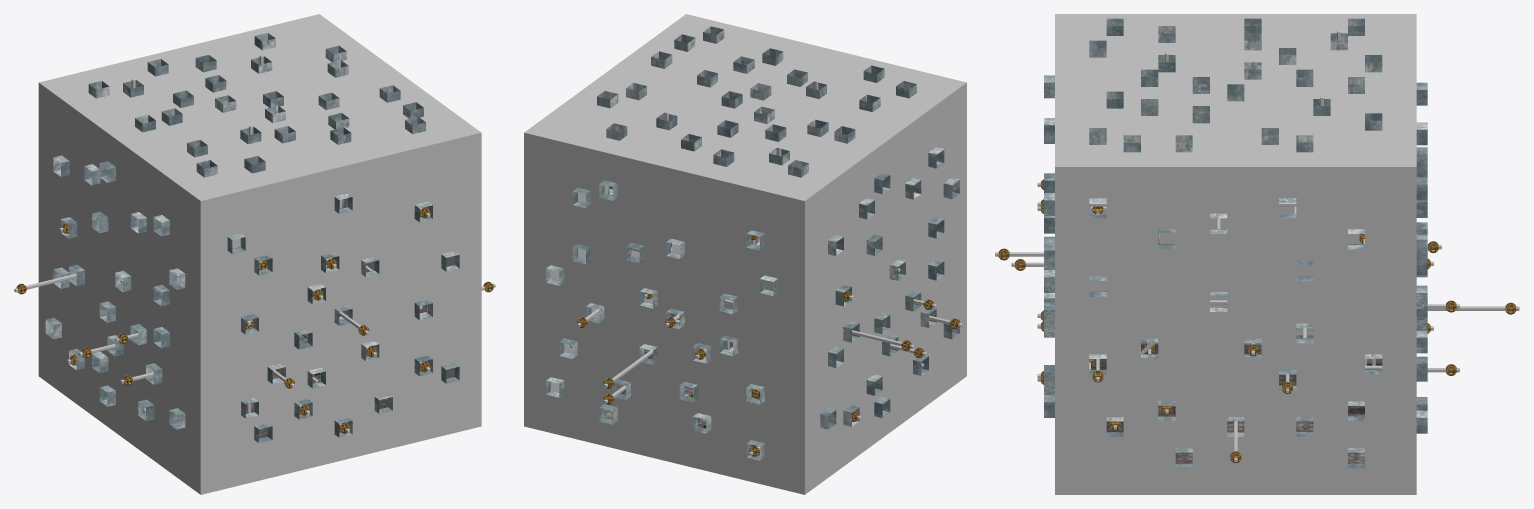
File: pipeRoom_03.fbx
The picture shows the model from 3 angles, left to right: view 1: azimuth 30°, elevation 25°; view 2: azimuth 150°, elevation 25°; view 3: azimuth 270°, elevation 25°; orthographic projection. The views are drawn at different scales.
Visible parts, largest first — view 1: room, holeFrames1, joints, rods; view 2: room, holeFrames1, rods, joints; view 3: room, holeFrames1, rods, joints.
Part boxes in pixels (<box>): room: <box>38,14,481,494</box>; holeFrames1: <box>45,33,459,443</box>; joints: <box>16,207,493,433</box>; rods: <box>14,55,495,432</box>; room: <box>524,14,966,494</box>; holeFrames1: <box>546,26,959,460</box>; rods: <box>570,80,962,455</box>; joints: <box>569,235,960,456</box>; room: <box>1055,14,1416,494</box>; holeFrames1: <box>1044,18,1427,468</box>; rods: <box>995,30,1519,462</box>; joints: <box>998,179,1516,463</box>.
Bounding box in the file's own units: 73.62 × 54.76 × 72.39.
